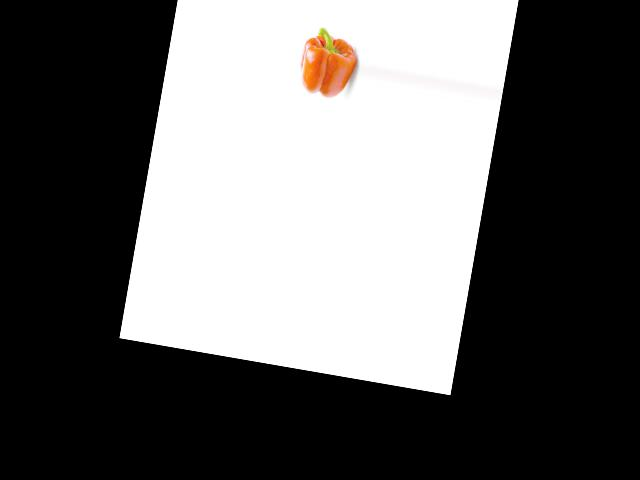bell_pepper: (294, 21, 361, 107)
